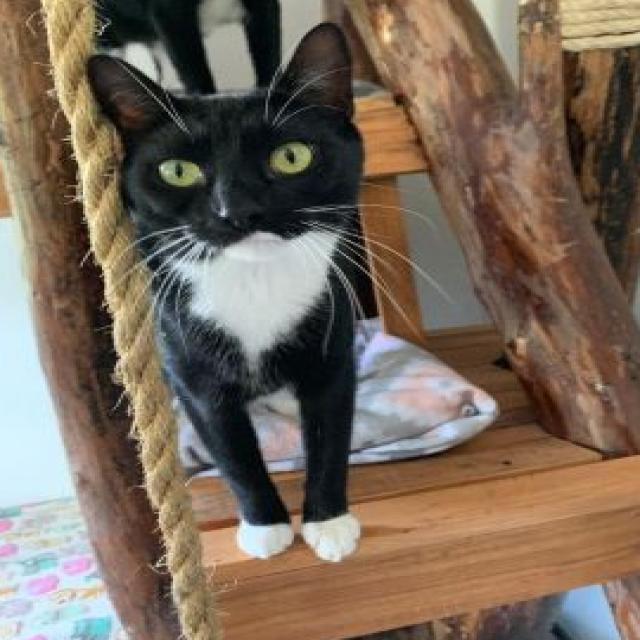Tuxedo: (80, 18, 370, 566)
